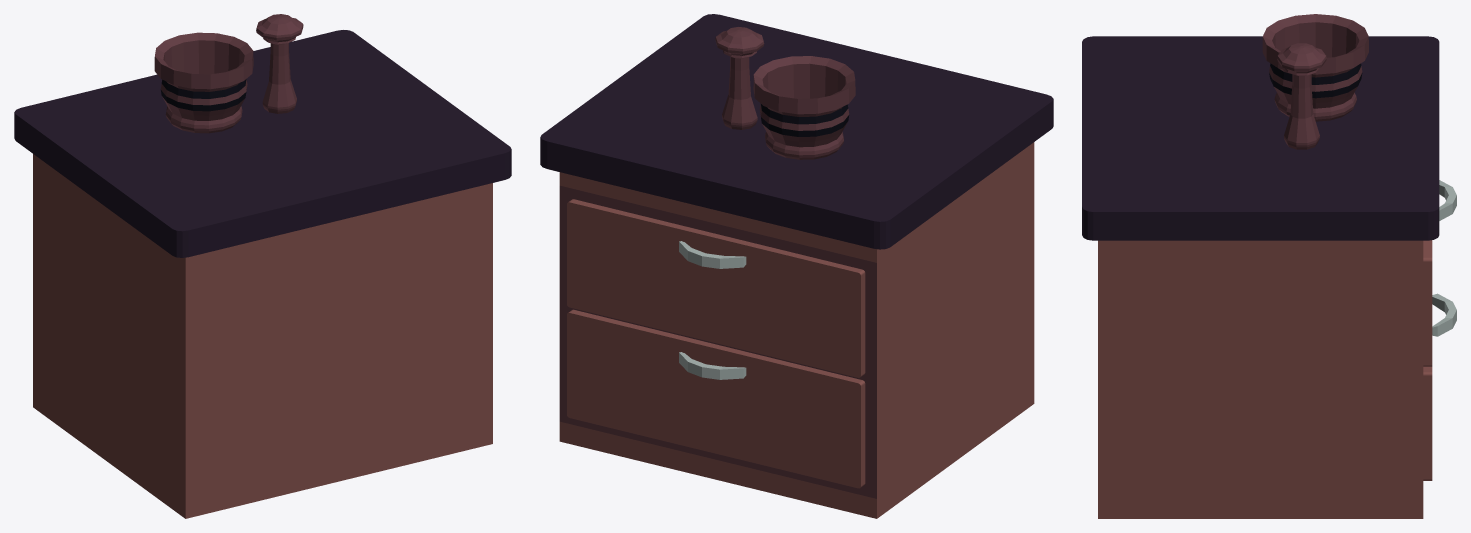
The model's file is BancadaAmassar.fbx.
3 views of the same model, side by side, from view 1: azimuth 30°, elevation 25°; view 2: azimuth 150°, elevation 25°; view 3: azimuth 270°, elevation 25° (orthographic). The views are drawn at different scales.
Parts seen in each view (by area): view 1: Cube.018, Circle.006, Circle.007; view 2: Cube.018, Circle.006, Circle.007; view 3: Cube.018, Circle.006, Circle.007.
Part boxes in pixels (x1,y1,x2,y2): Cube.018: (14, 30, 511, 518); Circle.006: (154, 32, 253, 133); Circle.007: (256, 14, 303, 113); Cube.018: (540, 14, 1053, 518); Circle.006: (753, 56, 855, 159); Circle.007: (715, 27, 764, 129); Cube.018: (1082, 36, 1456, 518); Circle.006: (1262, 14, 1368, 121); Circle.007: (1277, 43, 1326, 149).
Bounding box in the file's own units: 128 × 140 × 115.
